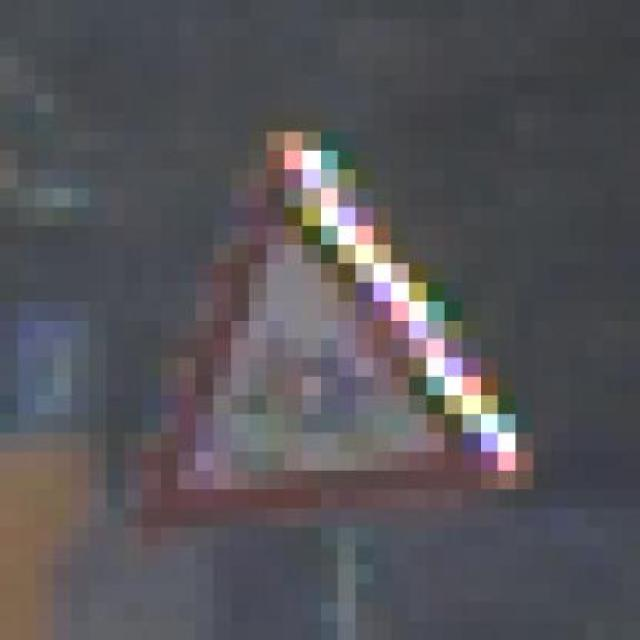CYCLE ROUTE AHEAD WARNING: (124, 112, 534, 546)
